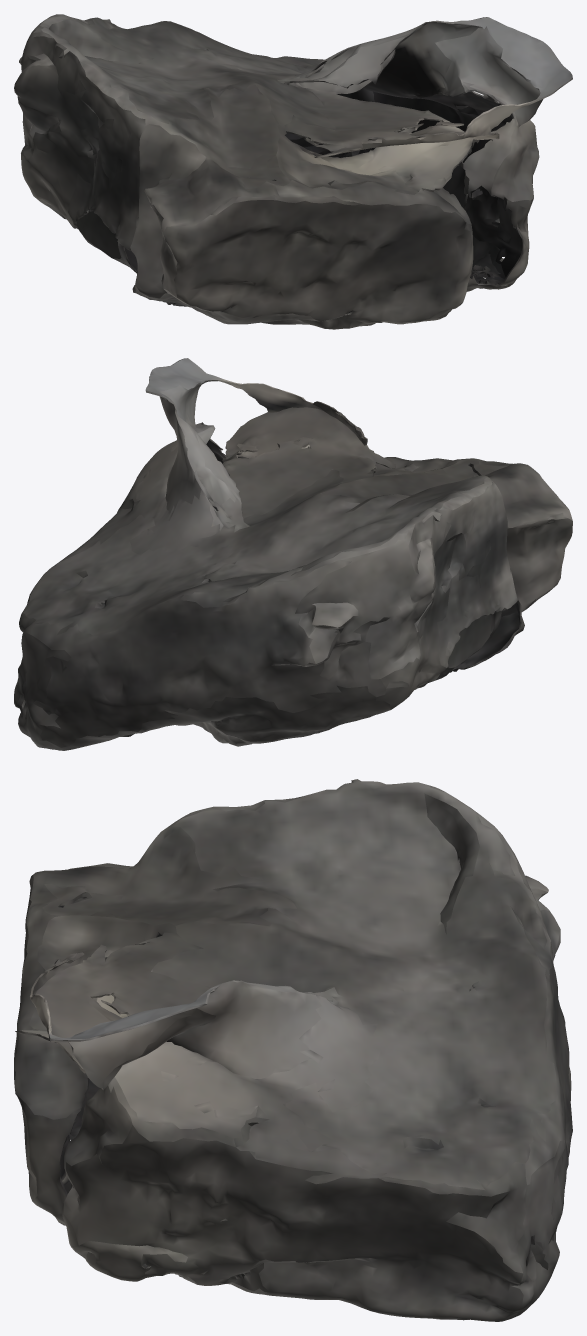
The picture shows the model from 3 angles, top to bottom: view 1: azimuth 30°, elevation 25°; view 2: azimuth 150°, elevation 25°; view 3: azimuth 270°, elevation 25°; orthographic projection. The views are drawn at different scales.
Parts seen in each view (by area): view 1: world; view 2: world; view 3: world.
Part boxes in pixels (box(x1,y1,x2,y2)): world: box(14, 14, 572, 329); world: box(14, 358, 572, 750); world: box(14, 779, 572, 1321).
Size of the model in its own units: 4.5 by 2.91 by 4.38.
1 material, 1 textured.
